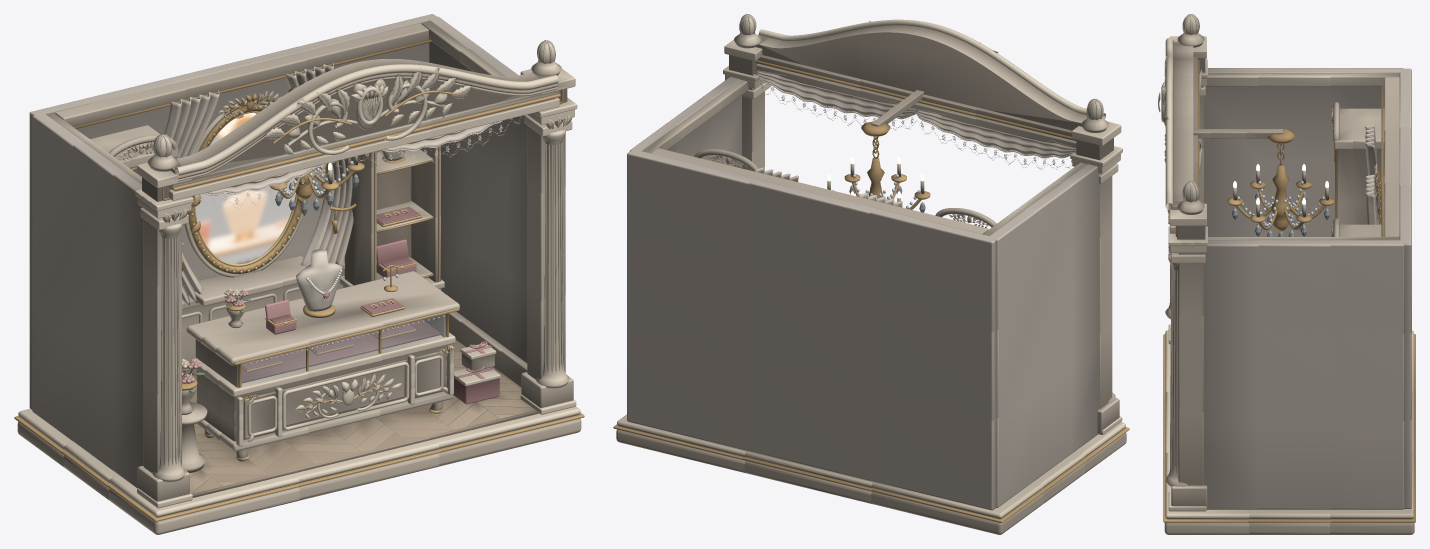
File: Boutique-web.glb
3 views of the same model, side by side, from view 1: azimuth 30°, elevation 25°; view 2: azimuth 150°, elevation 25°; view 3: azimuth 270°, elevation 25° (orthographic). The views are drawn at different scales.
Visible parts, largest first — view 1: Boutique_01, Boutique_06, Boutique_02, Boutique_04, Boutique_08, Boutique_03, Boutique_16, Boutique_10, Boutique_14, Boutique_07, Boutique_oak parquet 5, Boutique_oak parquet 6 (+8 smaller); view 2: Boutique_06, Boutique_01, Boutique_02, Boutique_08, Boutique_04, Boutique_09; view 3: Boutique_06, Boutique_01, Boutique_02, Boutique_04, Boutique_08, Boutique_15.
Boxes of the visible parts, bbox=[...] form: Boutique_01: bbox=[17, 23, 581, 534]; Boutique_06: bbox=[29, 14, 527, 487]; Boutique_02: bbox=[18, 21, 580, 517]; Boutique_04: bbox=[14, 39, 584, 521]; Boutique_08: bbox=[164, 62, 498, 305]; Boutique_03: bbox=[133, 73, 557, 497]; Boutique_16: bbox=[195, 112, 295, 264]; Boutique_10: bbox=[242, 206, 440, 383]; Boutique_14: bbox=[242, 315, 443, 385]; Boutique_07: bbox=[265, 239, 499, 404]; Boutique_oak parquet 5: bbox=[190, 383, 521, 493]; Boutique_oak parquet 6: bbox=[189, 347, 512, 476]; Boutique_06: bbox=[627, 77, 1099, 510]; Boutique_01: bbox=[616, 14, 1126, 534]; Boutique_02: bbox=[617, 14, 1125, 519]; Boutique_08: bbox=[755, 70, 1076, 207]; Boutique_04: bbox=[613, 60, 1129, 522]; Boutique_09: bbox=[759, 78, 1072, 197]; Boutique_06: bbox=[1203, 68, 1411, 509]; Boutique_01: bbox=[1164, 14, 1414, 534]; Boutique_02: bbox=[1158, 14, 1413, 519]; Boutique_04: bbox=[1163, 60, 1415, 522]; Boutique_08: bbox=[1199, 69, 1378, 224]; Boutique_15: bbox=[1232, 181, 1330, 236].
Size of the model in its own units: 6.16 by 5.68 by 3.58.
27 materials, 6 textured.
